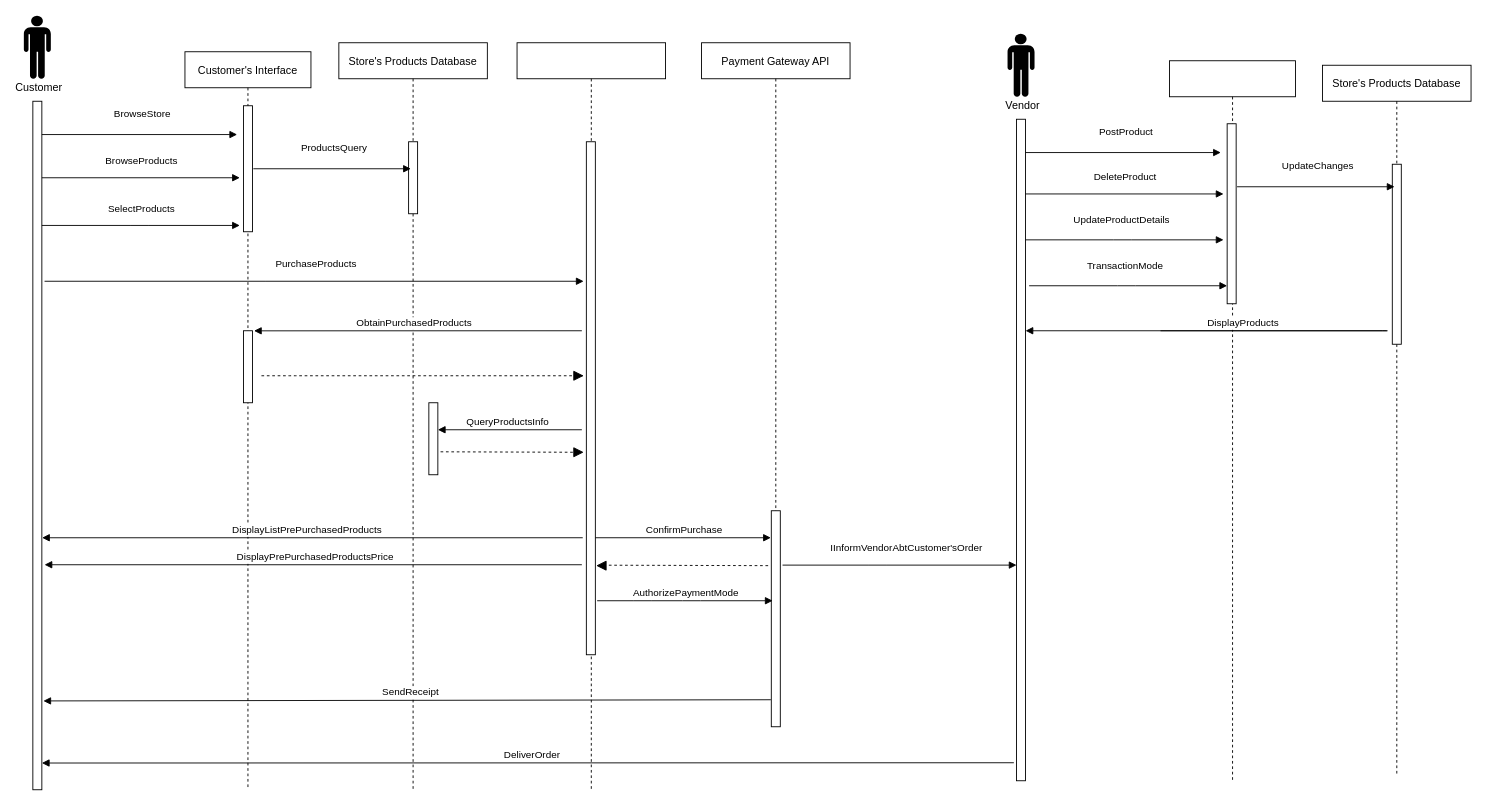
Image size: 1487x806. Some labels were removed from this diagram. Here are the shapes that lost their labels. From the top down, the box of each, then its label:
(516, 42, 666, 790): Purchase Interface
(1169, 60, 1296, 781): Vendor's Interface
